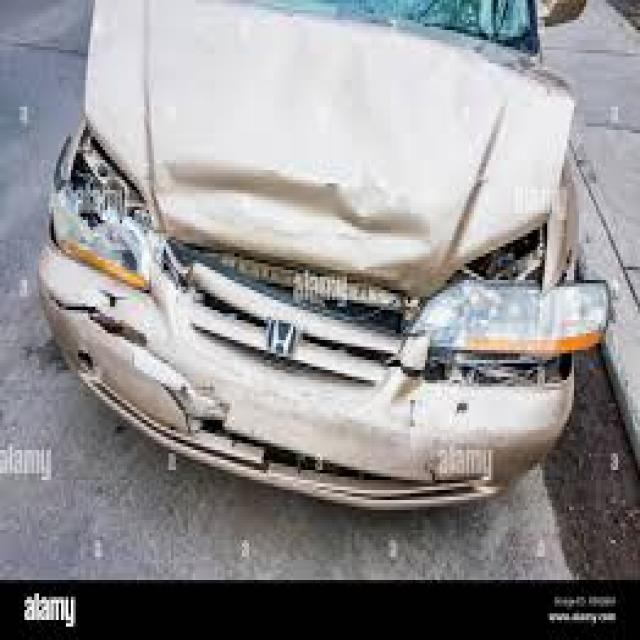severe: (36, 76, 640, 546)
